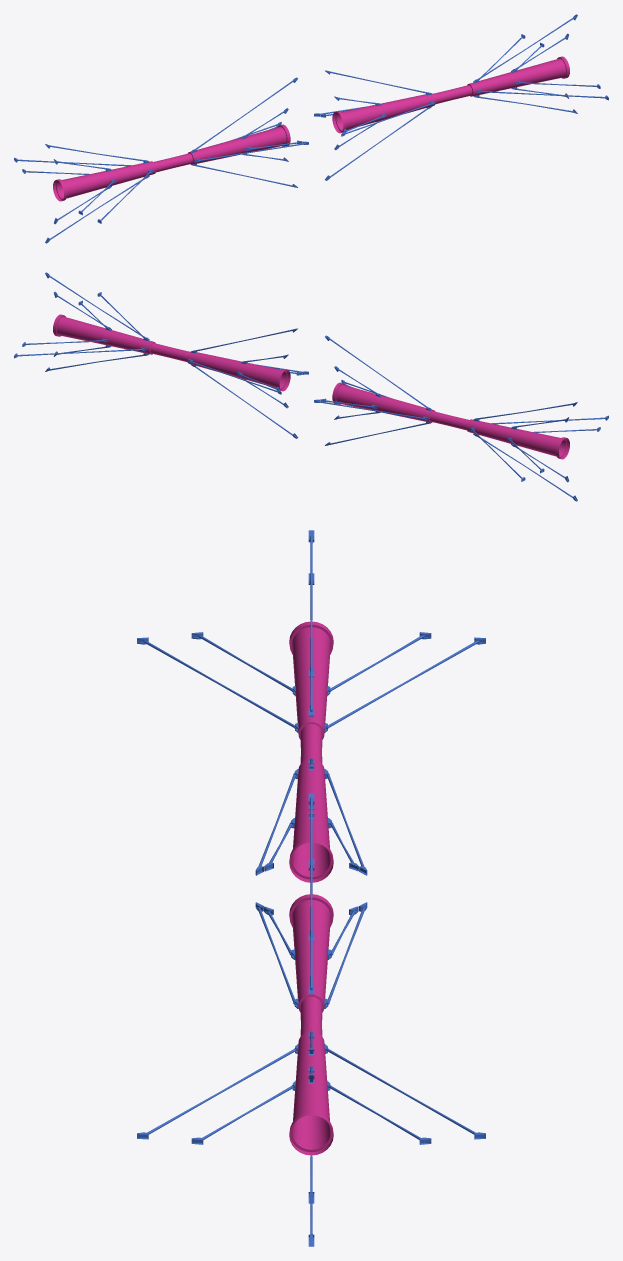
The model's file is station_spokes_2-5k.dae.
3 views of the same model, one above another, from view 1: azimuth 30°, elevation 25°; view 2: azimuth 150°, elevation 25°; view 3: azimuth 270°, elevation 25° (orthographic). The views are drawn at different scales.
Parts seen in each view (by area): view 1: spoke_001, strut_proced_003, strut_proced_002, strut_proced_001, strut_proced_004; view 2: spoke_001, strut_proced_003, strut_proced_002, strut_proced_001, strut_proced_004; view 3: spoke_001, strut_proced_002, strut_proced_003, strut_proced_004, strut_proced_001.
Boxes of the visible parts, x1,y1,x2,y2 form: spoke_001: (53,56,569,201); strut_proced_003: (473,14,608,113); strut_proced_002: (14,144,152,243); strut_proced_001: (190,77,308,187); strut_proced_004: (314,70,435,180); spoke_001: (53,314,569,459); strut_proced_003: (14,272,149,371); strut_proced_002: (470,402,608,501); strut_proced_001: (314,335,432,445); strut_proced_004: (187,328,308,438); spoke_001: (289,621,333,1155); strut_proced_002: (137,530,485,732); strut_proced_003: (137,1031,485,1246); strut_proced_004: (255,793,367,1008); strut_proced_001: (255,758,367,875).
Size of the model in its own units: 4701 by 1336 by 925.
